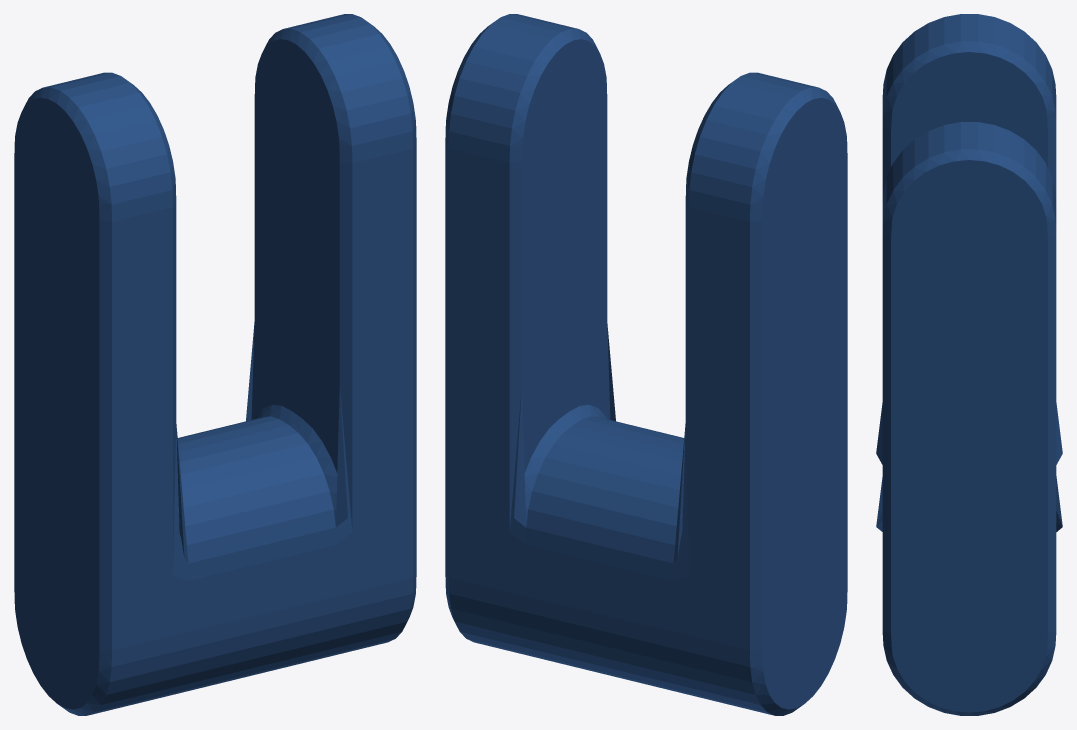
File: VIS_ShoulderLink2.dae
3 renders of one model, left to right at view 1: azimuth 30°, elevation 25°; view 2: azimuth 150°, elevation 25°; view 3: azimuth 270°, elevation 25°, orthographic. The views are drawn at different scales.
Visible parts, largest first — view 1: VIS_ShoulderLink2; view 2: VIS_ShoulderLink2; view 3: VIS_ShoulderLink2.
Boxes of the visible parts, bbox=[...] form: VIS_ShoulderLink2: bbox=[14, 14, 416, 715]; VIS_ShoulderLink2: bbox=[445, 14, 847, 715]; VIS_ShoulderLink2: bbox=[876, 14, 1062, 715].
Size of the model in its own units: 0.1213 by 0.0671 by 0.2248.
